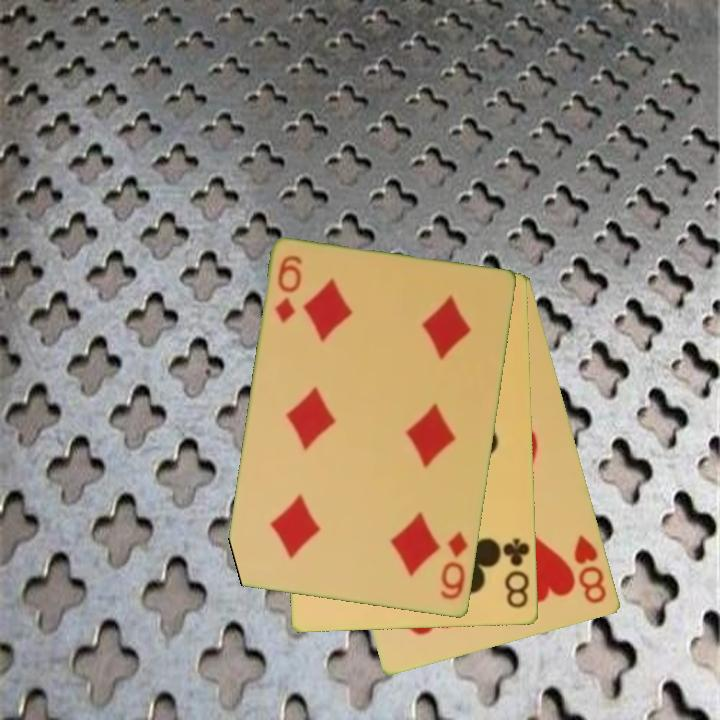6d: (271, 252, 306, 326), (437, 529, 471, 603)
8c: (500, 535, 533, 612)
8h: (571, 531, 610, 607)
